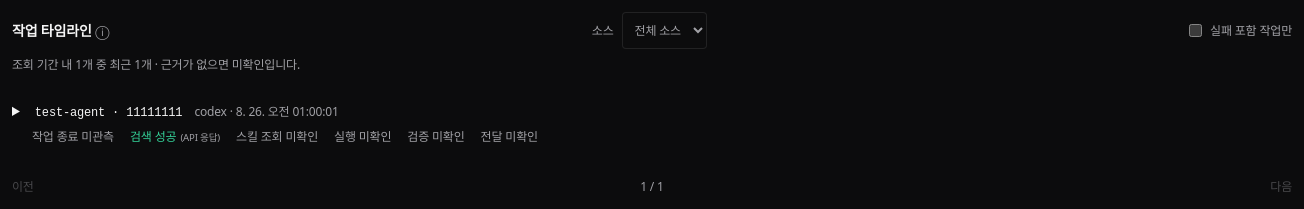
Test case: shows missing verification and delivery as unknown even when API succeeded
expect the text "검증 미확인" is shown: met, box [407,129,465,145]
expect the text "전달 미확인" is shown: met, box [481,129,538,145]
Click the checkbox labelled "실패 포함 작업만" at (1196, 30), box [1189,24,1202,37]
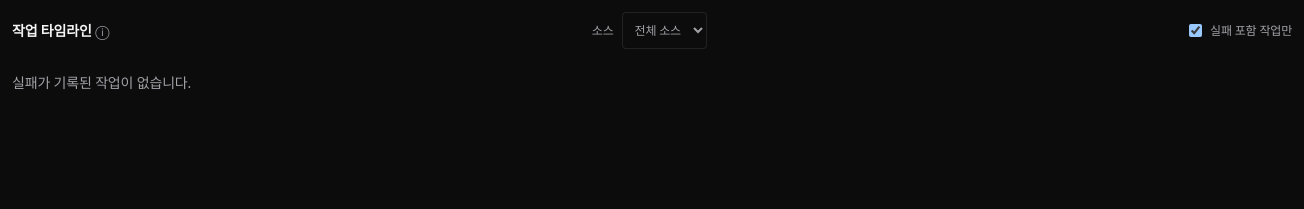
expect the text "실패가 기록된 작업이 없습니다." is shown: met, box [12,73,191,92]
